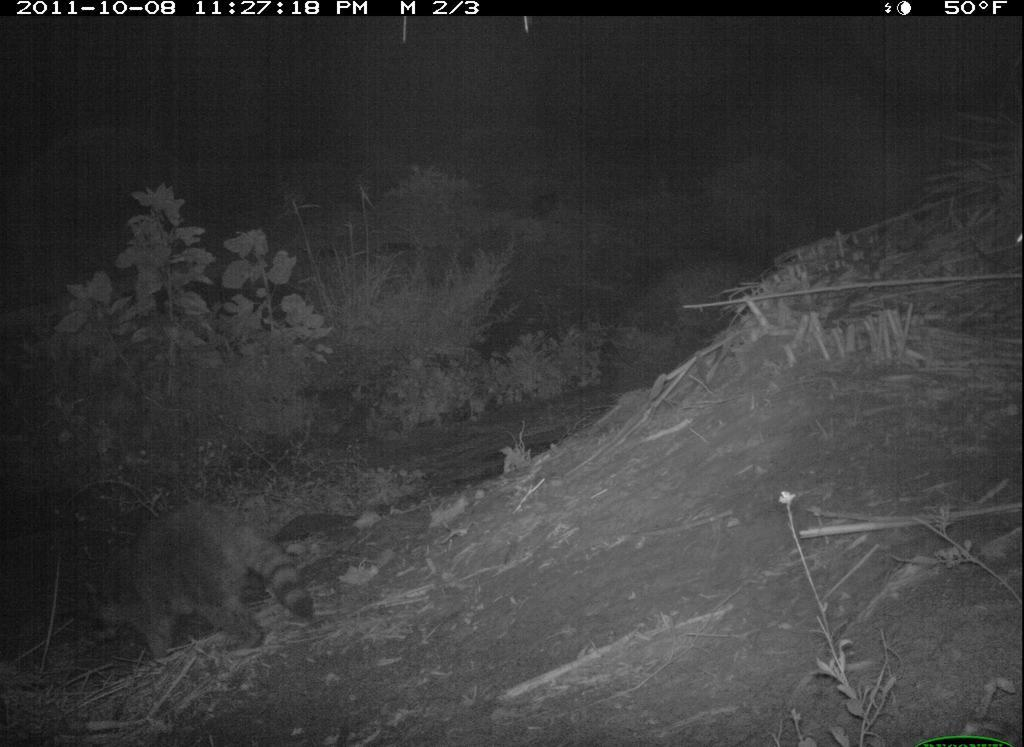raccoon: (72, 498, 323, 662)
